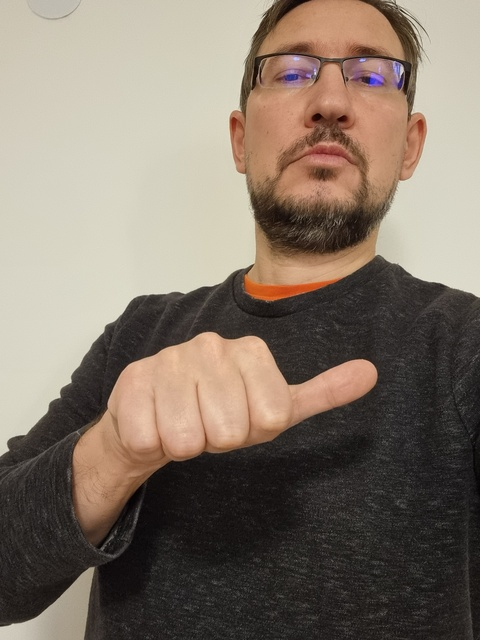GestBack: (120, 332, 378, 462)
